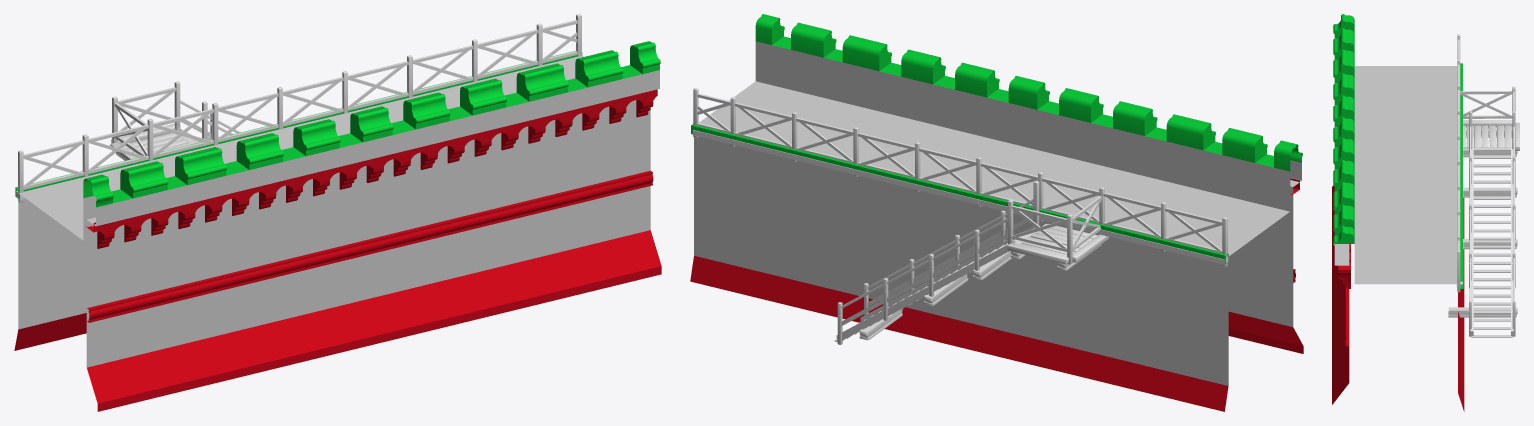
Rendered from Wall_2.fbx.
The picture shows the model from 3 angles, left to right: view 1: azimuth 30°, elevation 25°; view 2: azimuth 150°, elevation 25°; view 3: azimuth 270°, elevation 25°; orthographic projection. The views are drawn at different scales.
Visible parts, largest first — view 1: Group_4.015, Group_3.009, Group_3.005, Group_3.010; view 2: Group_4.015, Group_3.005, Group_3.009, Group_3.010; view 3: Group_4.015, Group_3.005, Group_3.009.
Boxes of the visible parts, x1=… form: Group_4.015: x1=14, y1=41, x2=661, y2=411; Group_3.009: x1=16, y1=14, x2=581, y2=202; Group_3.005: x1=110, y1=81, x2=240, y2=160; Group_3.010: x1=153, y1=108, x2=213, y2=158; Group_4.015: x1=690, y1=14, x2=1303, y2=411; Group_3.005: x1=834, y1=181, x2=1108, y2=344; Group_3.009: x1=692, y1=88, x2=1228, y2=267; Group_3.010: x1=1040, y1=177, x2=1101, y2=234; Group_4.015: x1=1332, y1=14, x2=1464, y2=411; Group_3.005: x1=1448, y1=86, x2=1519, y2=337; Group_3.009: x1=1456, y1=34, x2=1463, y2=292.
Size of the model in its own units: 1800 by 690 by 655.
